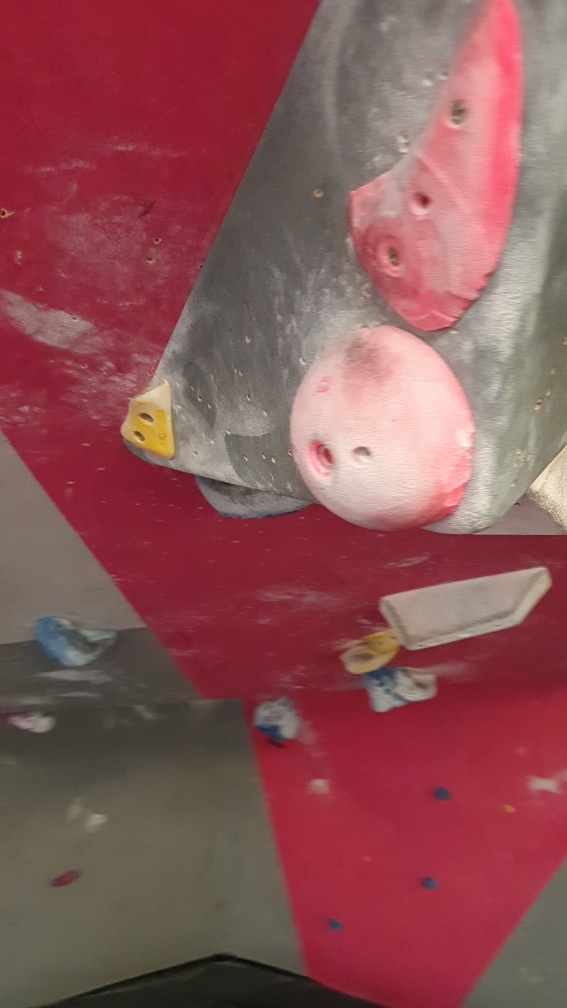Crimp: (117, 378, 176, 456)
Jug: (32, 607, 115, 672)
Sloper: (286, 322, 474, 530)
